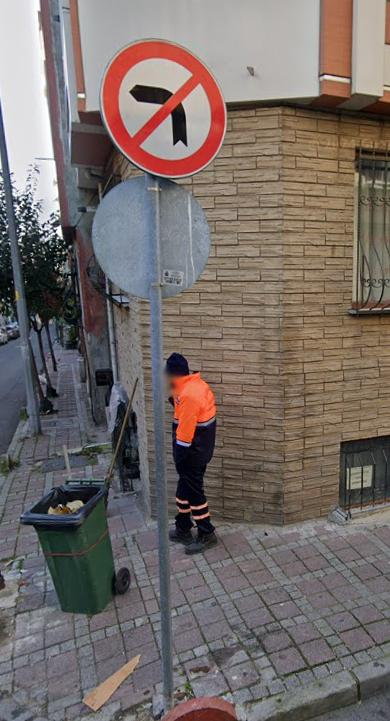leftturnsareforbidden: (104, 40, 228, 170)
